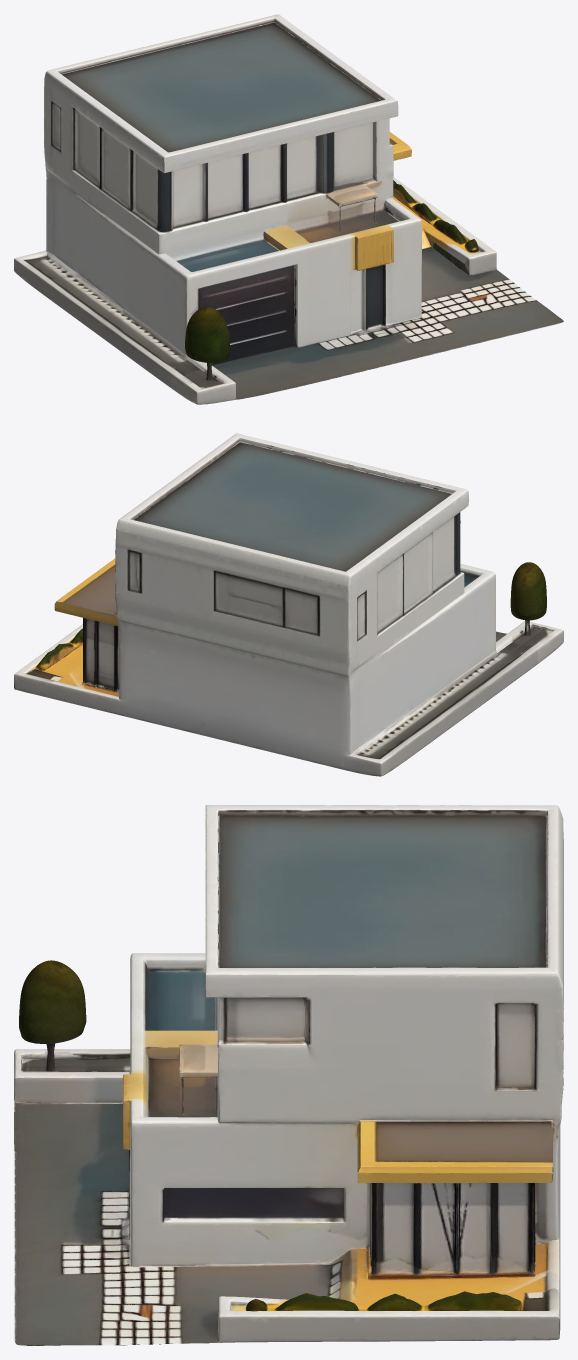
The model's file is house-garage.glb.
The picture shows the model from 3 angles, top to bottom: view 1: azimuth 30°, elevation 25°; view 2: azimuth 150°, elevation 25°; view 3: azimuth 270°, elevation 25°; orthographic projection. The views are drawn at different scales.
Parts seen in each view (by area): view 1: model; view 2: model; view 3: model.
Boxes of the visible parts, x1,y1,x2,y2 form: model: (14, 14, 563, 404); model: (14, 433, 563, 776); model: (14, 805, 563, 1345).
Size of the model in its own units: 14.49 by 7.57 by 12.59.
1 material, 1 textured.
